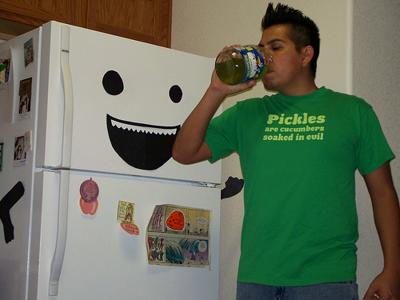person: (170, 3, 400, 300)
